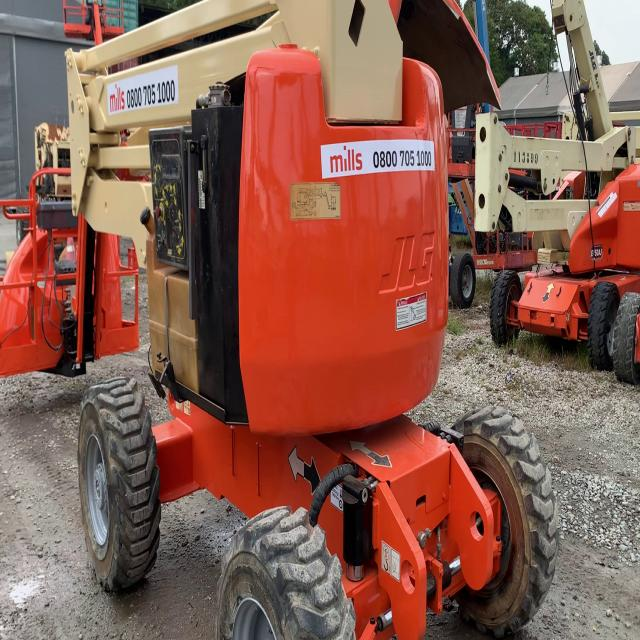Adesivo Longo: (318, 139, 438, 183), (106, 64, 181, 119)
